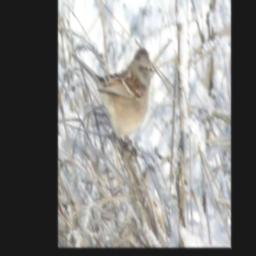Sparrow: (72, 45, 154, 161)
